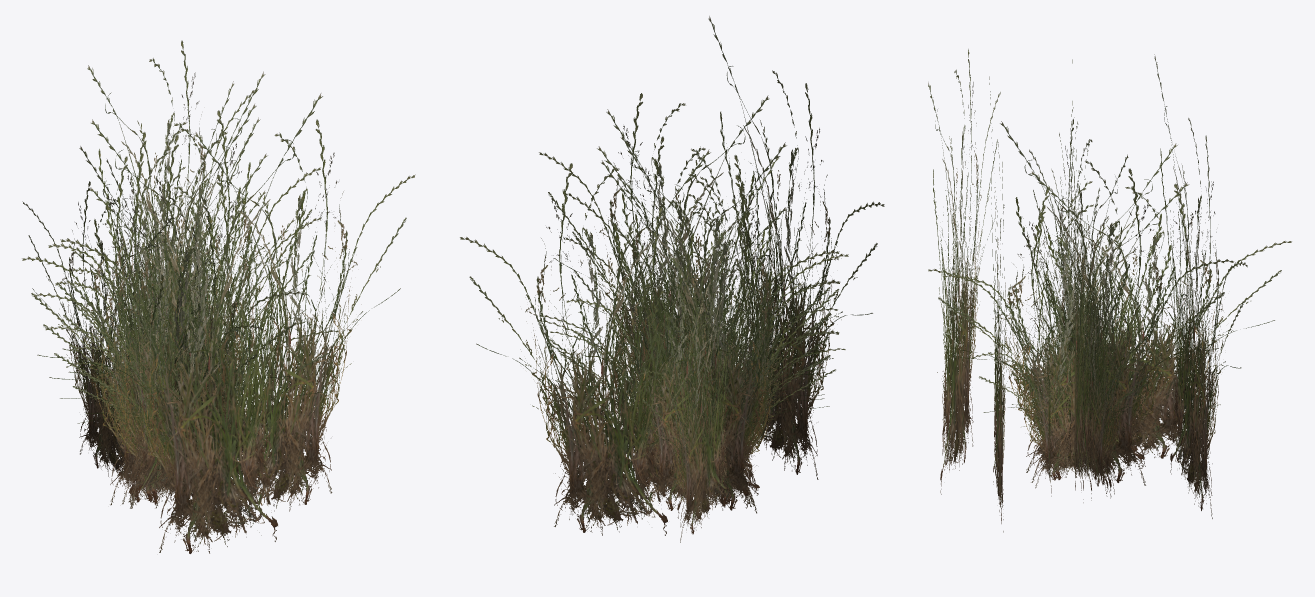
The model's file is New SpeedTree 1.fbx.
3 renders of one model, left to right at view 1: azimuth 30°, elevation 25°; view 2: azimuth 150°, elevation 25°; view 3: azimuth 270°, elevation 25°, orthographic. The views are drawn at different scales.
Visible parts, largest first — view 1: LOD0; view 2: LOD0; view 3: LOD0.
Part boxes in pixels (x1,y1,x2,y2): LOD0: [22, 40, 415, 553]; LOD0: [460, 16, 884, 542]; LOD0: [928, 49, 1291, 532].
Size of the model in its own units: 26.82 by 31.77 by 24.24.
